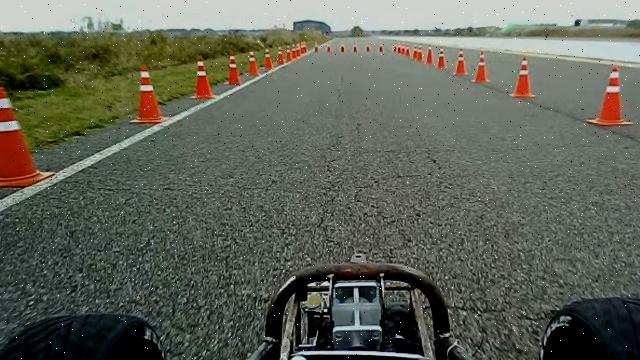red cone: (0, 85, 56, 188), (586, 66, 634, 126), (129, 64, 167, 124), (190, 56, 217, 100), (510, 55, 536, 98), (471, 48, 491, 84), (224, 50, 242, 85), (453, 48, 469, 76), (245, 50, 259, 76), (262, 48, 274, 70), (435, 47, 446, 69), (424, 46, 434, 66), (276, 46, 284, 65)
